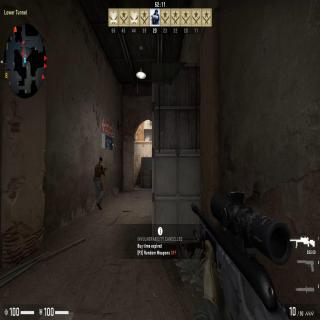T-Body: (93, 156, 106, 210)
T-Head: (99, 156, 103, 164)
